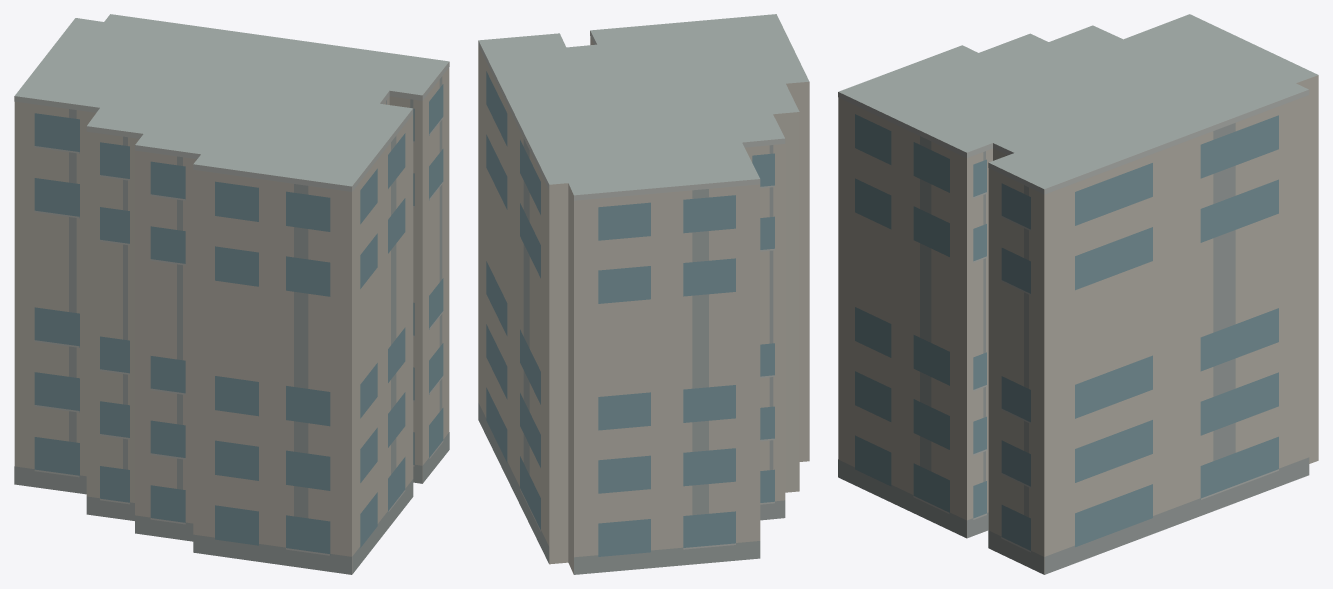
Rendered from survey-upis-32792072.glb.
3 renders of one model, left to right at view 1: azimuth 30°, elevation 25°; view 2: azimuth 150°, elevation 25°; view 3: azimuth 270°, elevation 25°, orthographic. The views are drawn at different scales.
Parts seen in each view (by area): view 1: survey-upis-32792072.tmp; view 2: survey-upis-32792072.tmp; view 3: survey-upis-32792072.tmp.
Boxes of the visible parts, x1,y1,x2,y2 form: survey-upis-32792072.tmp: [14, 14, 449, 574]; survey-upis-32792072.tmp: [478, 14, 809, 574]; survey-upis-32792072.tmp: [838, 14, 1318, 574].
Size of the model in its own units: 16.77 by 17.2 by 19.44.
